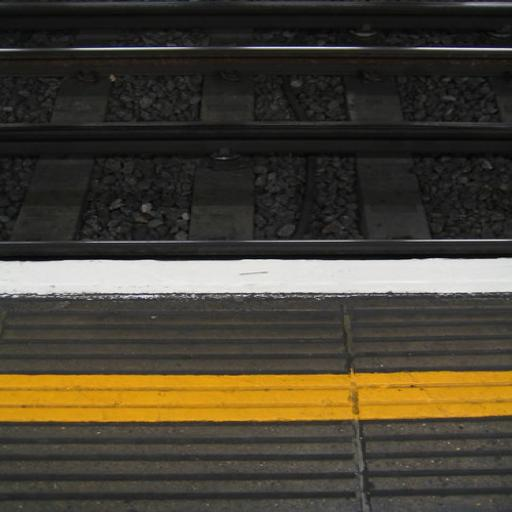platform_edge: (1, 184, 512, 512)
